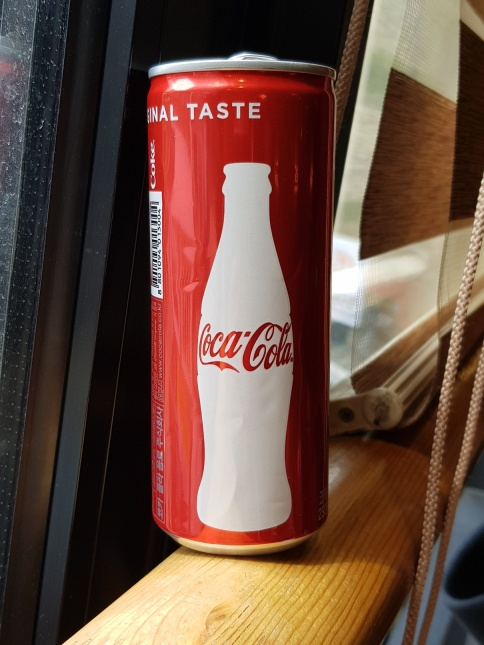Can: (143, 51, 337, 561)
